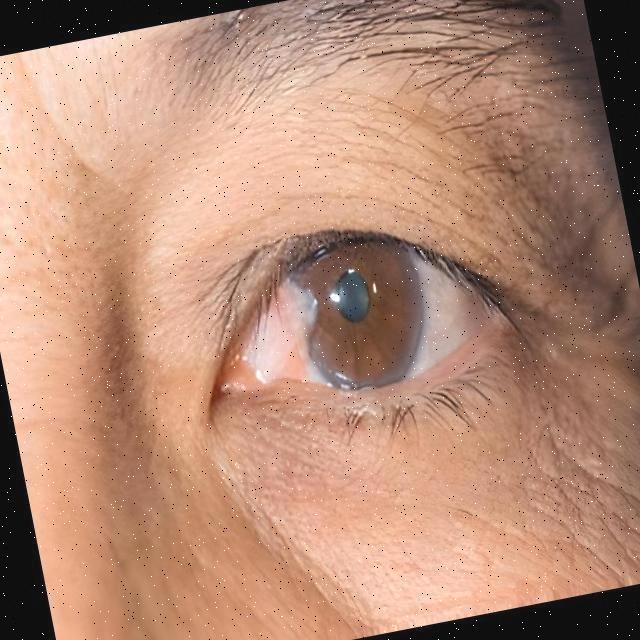Pterygium: (215, 266, 332, 394)
